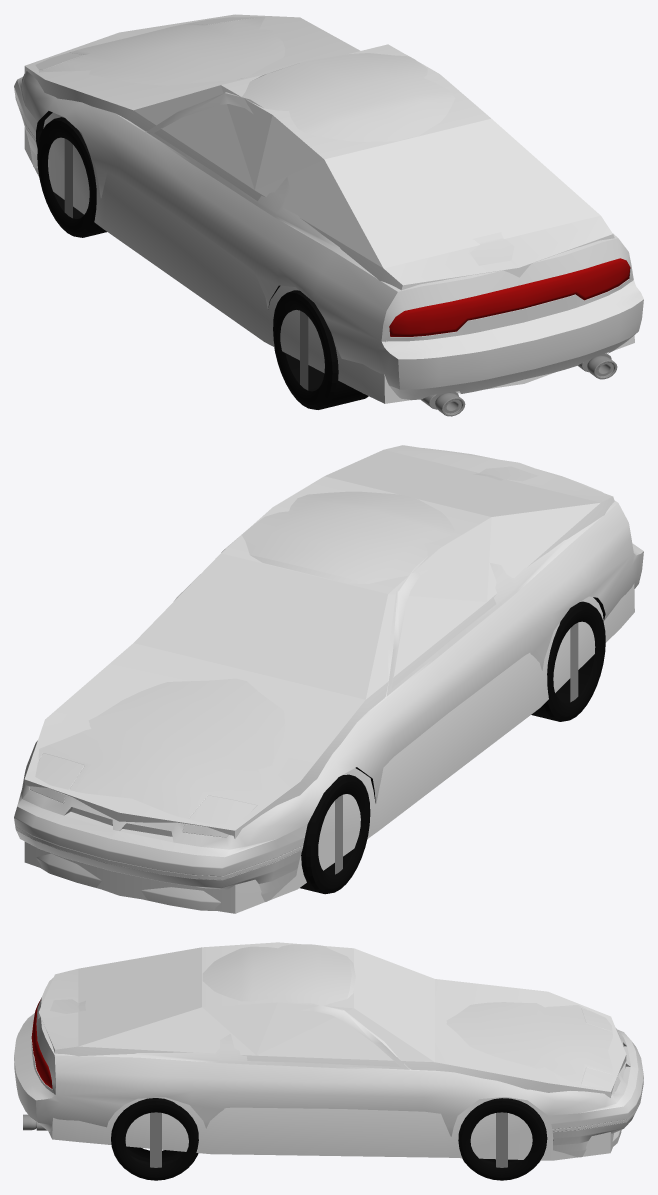
File: Nissan.FBX
3 views of the same model, one above another, from view 1: azimuth 30°, elevation 25°; view 2: azimuth 150°, elevation 25°; view 3: azimuth 270°, elevation 25° (orthographic). The views are drawn at different scales.
Parts seen in each view (by area): view 1: Body, Box001, RearLights, wheelRL, wheelFL, Cylinder001; view 2: Box001, Body, wheelFL, wheelRL; view 3: Box001, Body, wheelRR, wheelFR, RearLights.
Boxes of the visible parts, x1=… form: Body: x1=14, y1=17, x2=643, y2=400; Box001: x1=24, y1=14, x2=634, y2=403; RearLights: x1=389, y1=258, x2=630, y2=336; wheelRL: x1=273, y1=290, x2=368, y2=409; wheelFL: x1=37, y1=117, x2=106, y2=237; Cylinder001: x1=421, y1=353, x2=617, y2=416; Box001: x1=24, y1=445, x2=634, y2=913; Body: x1=14, y1=448, x2=643, y2=910; wheelFL: x1=300, y1=774, x2=370, y2=894; wheelRL: x1=531, y1=601, x2=605, y2=721; Box001: x1=38, y1=942, x2=626, y2=1160; Body: x1=14, y1=944, x2=643, y2=1157; wheelRR: x1=111, y1=1098, x2=198, y2=1180; wheelFR: x1=458, y1=1098, x2=547, y2=1180; RearLights: x1=31, y1=999, x2=52, y2=1088.
Size of the model in its own units: 169 by 129 by 451.
